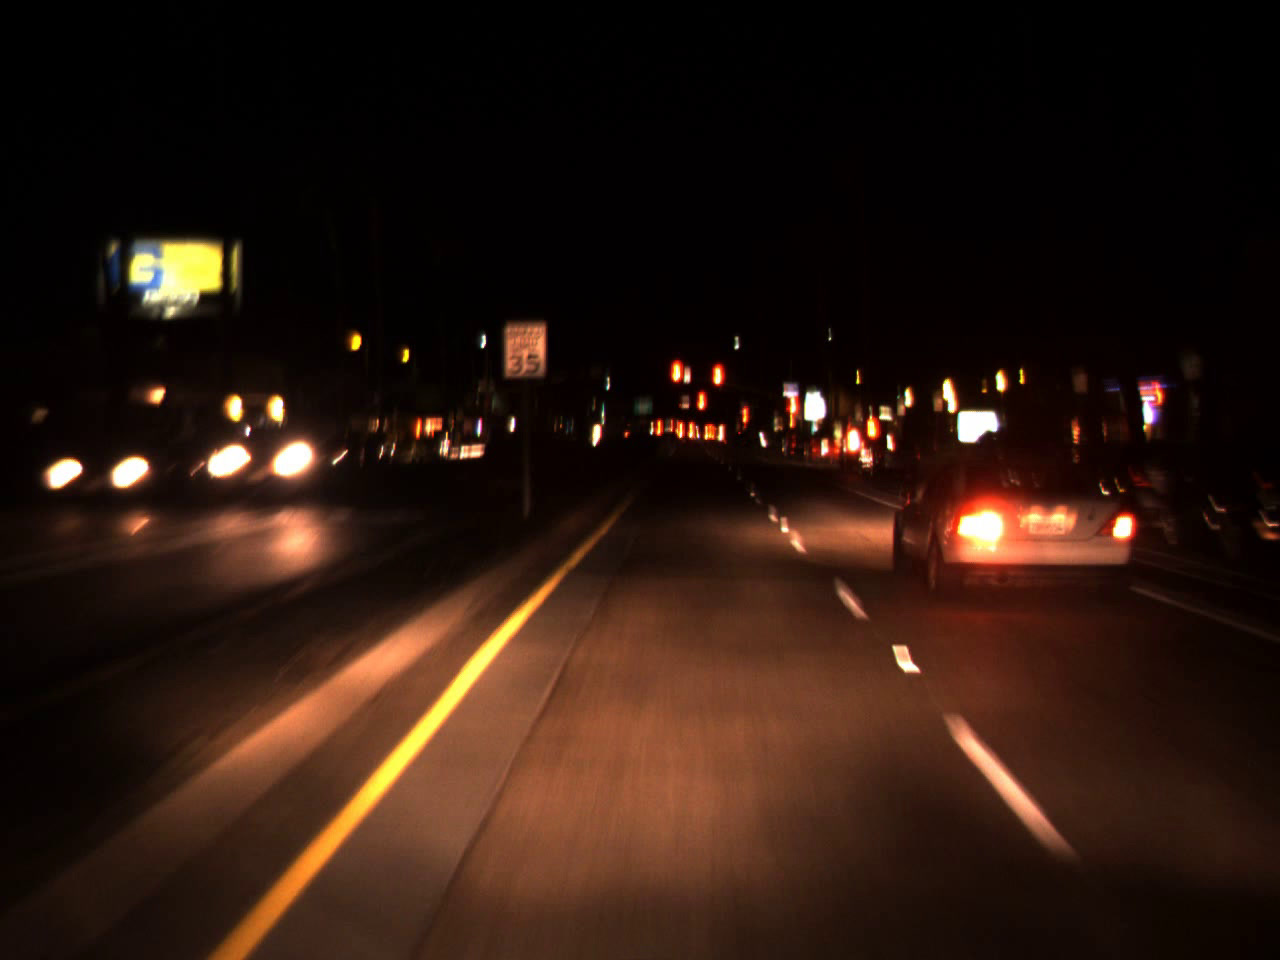stop: (667, 355, 686, 411), (710, 359, 726, 415), (694, 387, 707, 435), (741, 404, 748, 447)
